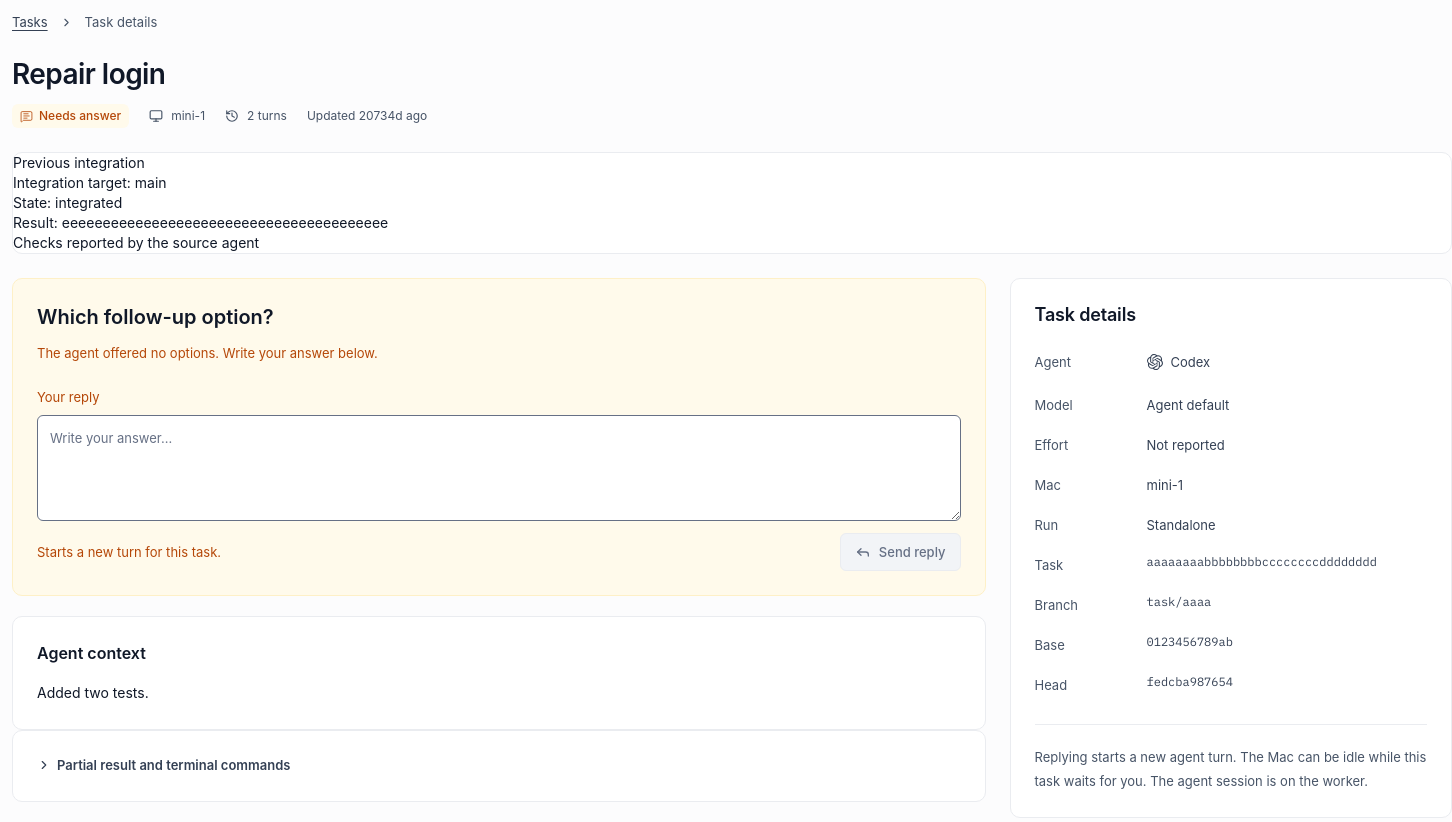
Test case: TaskDetail › keeps needs_input ordinary actions and the previous receipt as history
Check: the text "Needs answer" is shown, box [12, 104, 129, 128]
Check: the button "Send reply" is shown, box [840, 533, 960, 571]
Type "Continue the ordinary work" into the text box named "Follow-up". click: [499, 468]
box: [37, 415, 960, 521]
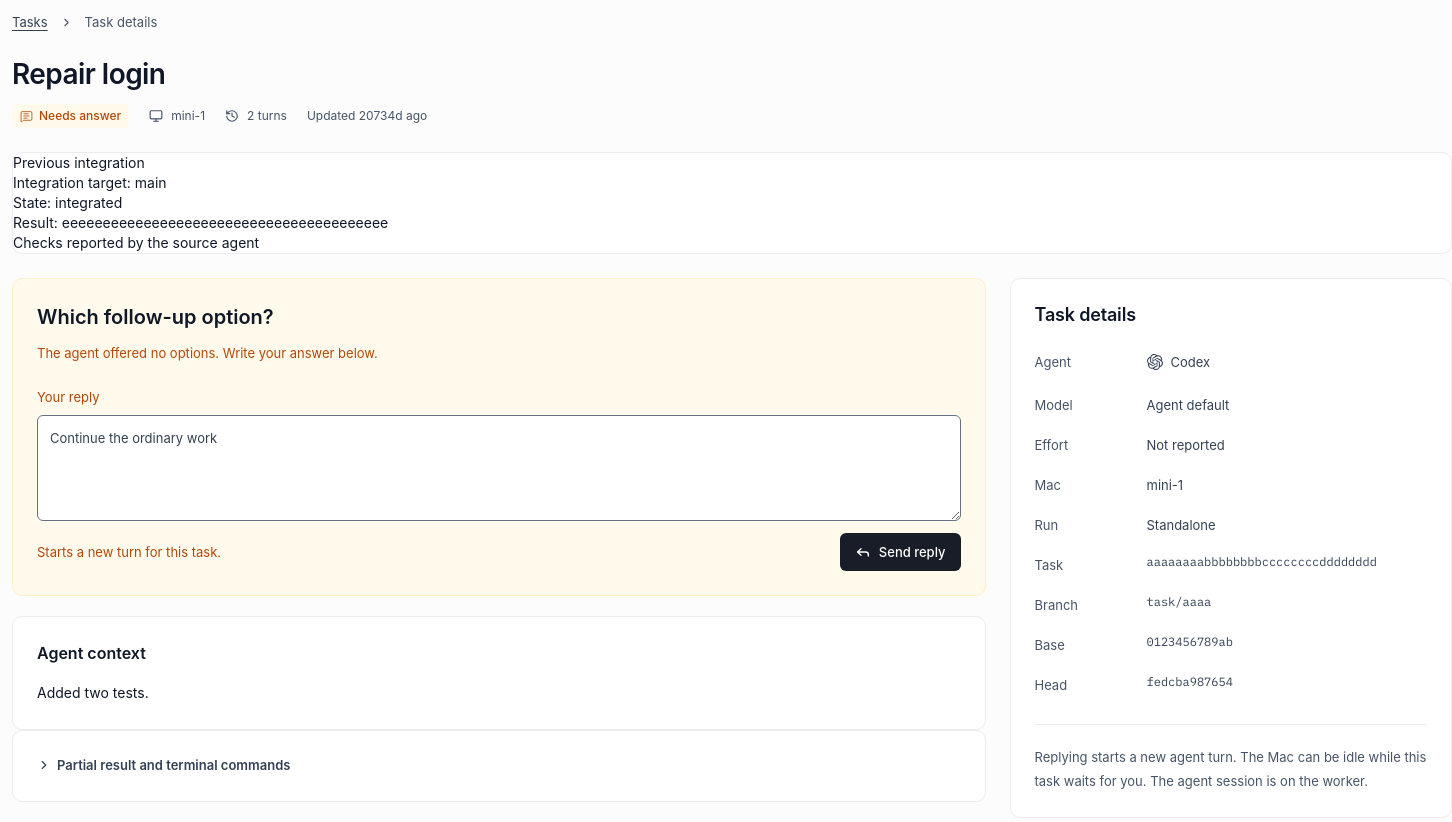
Check: the button "Send reply" is enabled, box [840, 533, 960, 571]
